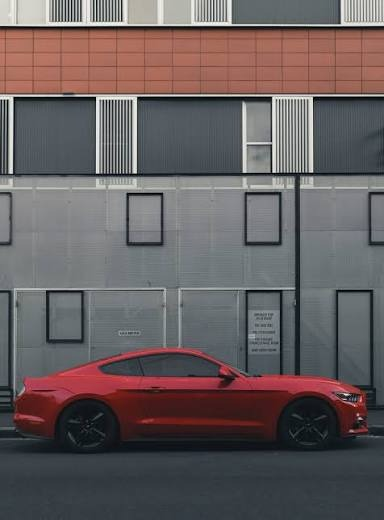car: (14, 341, 354, 463)
